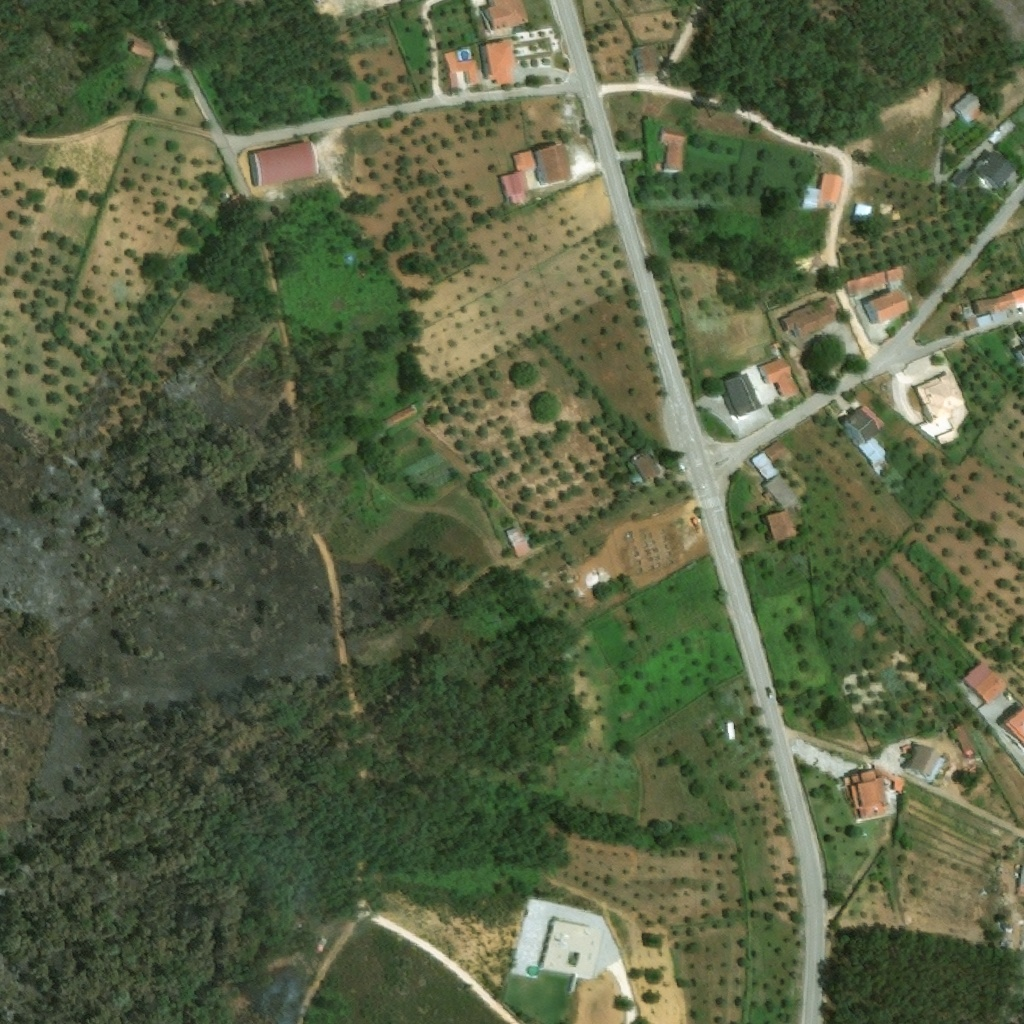0 no-damage: (535, 919, 604, 983), (252, 142, 317, 189), (847, 769, 897, 824), (780, 297, 837, 340), (915, 376, 961, 422), (963, 663, 1007, 705), (764, 472, 803, 515), (843, 405, 885, 444), (759, 359, 799, 398), (534, 145, 572, 184), (724, 375, 761, 415), (868, 289, 911, 323), (486, 0, 530, 32), (977, 151, 1015, 188), (975, 287, 1023, 316), (486, 38, 515, 85), (903, 744, 939, 778), (766, 511, 802, 543), (661, 127, 687, 171), (443, 51, 479, 82), (846, 272, 887, 298), (630, 448, 660, 483), (858, 436, 890, 468), (750, 451, 780, 481), (504, 525, 531, 558), (952, 93, 980, 124), (951, 725, 976, 756), (501, 172, 529, 199), (636, 47, 661, 74), (819, 174, 843, 202), (512, 151, 536, 173), (130, 39, 155, 58), (851, 202, 874, 222), (886, 267, 906, 290), (385, 406, 412, 423), (152, 54, 174, 74), (934, 429, 958, 446), (802, 186, 818, 210), (888, 773, 905, 793), (726, 723, 736, 742), (965, 318, 977, 329), (963, 308, 972, 319)
4 un-classified: (1001, 704, 1023, 748), (1005, 331, 1023, 365)
